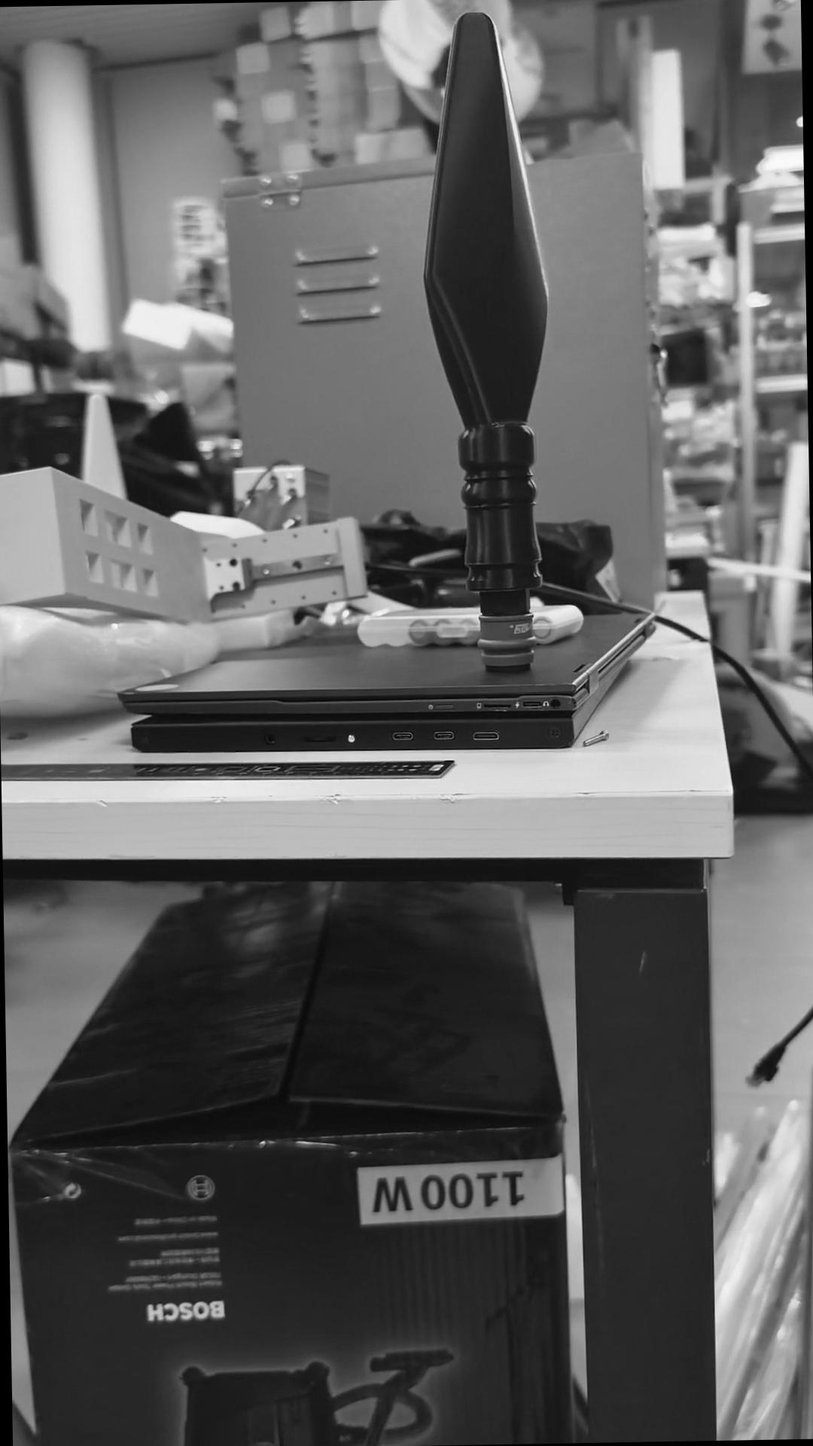base: (467, 606, 546, 684)
